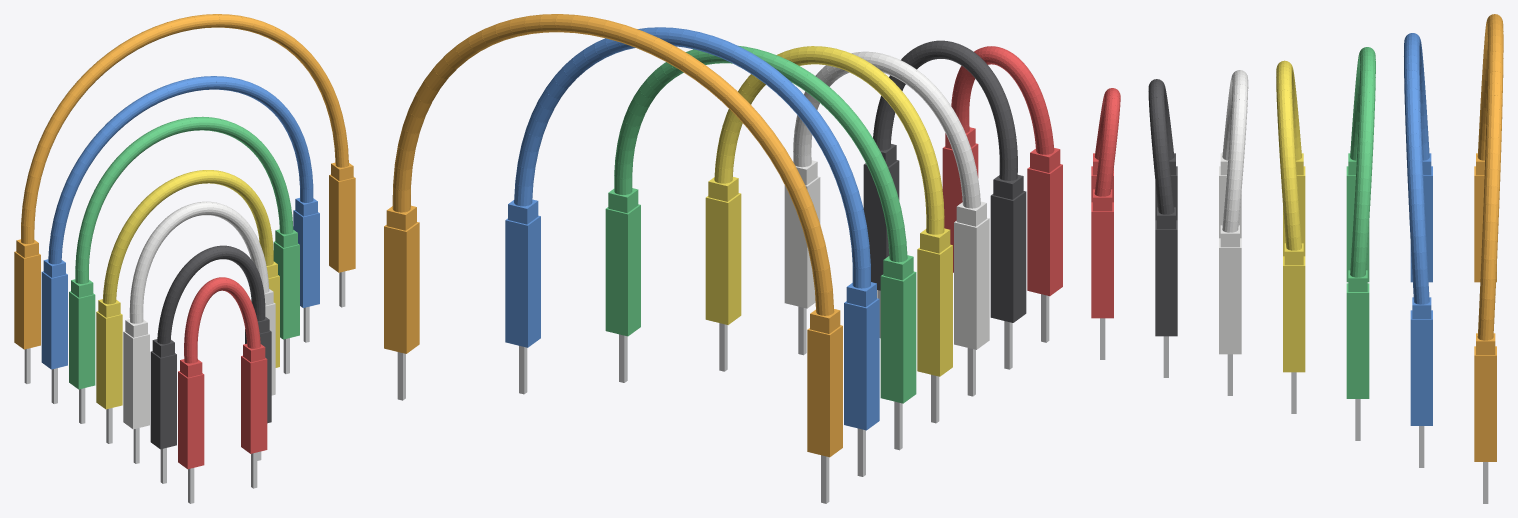
File: jumper.glb
The picture shows the model from 3 angles, left to right: view 1: azimuth 30°, elevation 25°; view 2: azimuth 150°, elevation 25°; view 3: azimuth 270°, elevation 25°; orthographic projection. The views are drawn at different scales.
Visible parts, largest first — view 1: Jumper_Orange, Jumper_Blue, Jumper_Green, Jumper_Red, Jumper_Yellow, Jumper_White, Jumper_Black, Pin_Metal; view 2: Jumper_Orange, Jumper_Blue, Jumper_Green, Jumper_Yellow, Jumper_White, Jumper_Black, Jumper_Red, Pin_Metal; view 3: Jumper_Orange, Jumper_Blue, Jumper_Green, Jumper_Yellow, Jumper_White, Jumper_Black, Jumper_Red, Pin_Metal.
Boxes of the visible parts, x1,y1,x2,y2 form: Jumper_Orange: [14, 14, 355, 349]; Jumper_Blue: [41, 76, 319, 369]; Jumper_Green: [69, 116, 299, 389]; Jumper_Red: [178, 277, 267, 469]; Jumper_Yellow: [96, 170, 279, 409]; Jumper_White: [123, 201, 275, 429]; Jumper_Black: [150, 245, 271, 449]; Pin_Metal: [24, 271, 345, 503]; Jumper_Orange: [384, 14, 842, 457]; Jumper_Blue: [505, 27, 879, 430]; Jumper_Green: [605, 45, 916, 403]; Jumper_Yellow: [705, 46, 952, 376]; Jumper_White: [784, 51, 989, 349]; Jumper_Black: [863, 40, 1026, 322]; Jumper_Red: [942, 46, 1062, 296]; Pin_Metal: [397, 290, 1049, 503]; Jumper_Orange: [1474, 14, 1503, 461]; Jumper_Blue: [1404, 33, 1432, 425]; Jumper_Green: [1346, 47, 1375, 398]; Jumper_Yellow: [1276, 60, 1305, 372]; Jumper_White: [1219, 70, 1248, 354]; Jumper_Black: [1148, 79, 1177, 336]; Jumper_Red: [1091, 88, 1120, 318]; Pin_Metal: [1100, 318, 1488, 503].
Bounding box in the file's own units: 0.0535 × 0.0497 × 0.0492.
